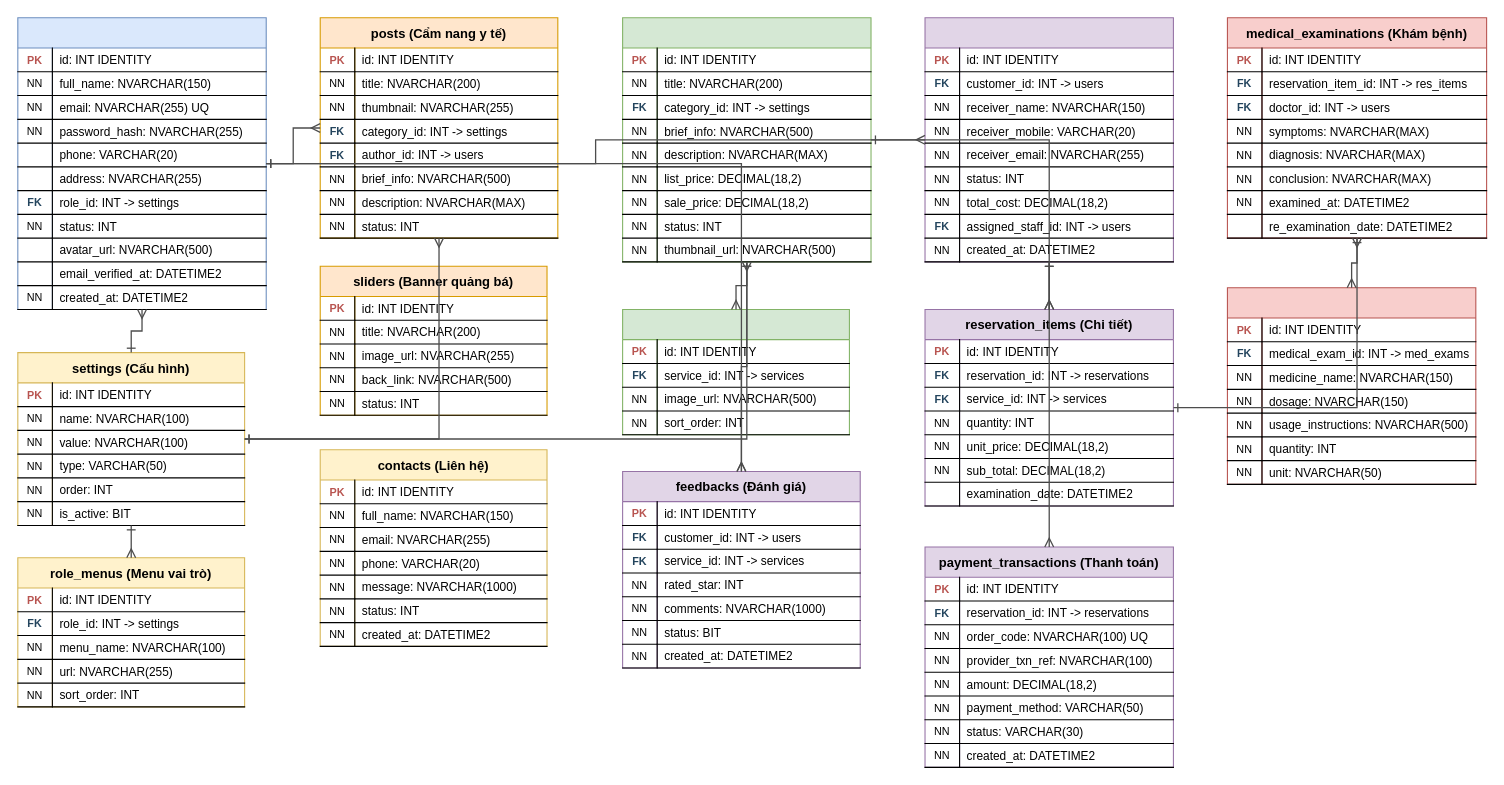
The diagram is 1504 pixels wide and 785 high, and some of its shapes have lost their labels. The box of each missing label's shape, as (x1, y1, x2, y2) in pixels:
prescriptions (Đơn thuốc): (1226, 287, 1476, 484)
reservations (Lịch hẹn khám): (924, 17, 1173, 262)
service_images (Ảnh chi tiết): (622, 308, 849, 435)
services (Gói dịch vụ): (622, 17, 871, 262)
users (Tài khoản): (17, 17, 266, 309)
